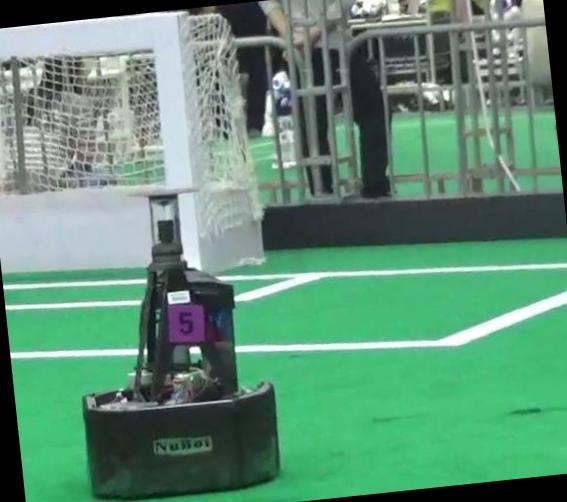goal: (149, 13, 204, 268)
robot: (82, 197, 279, 499)
